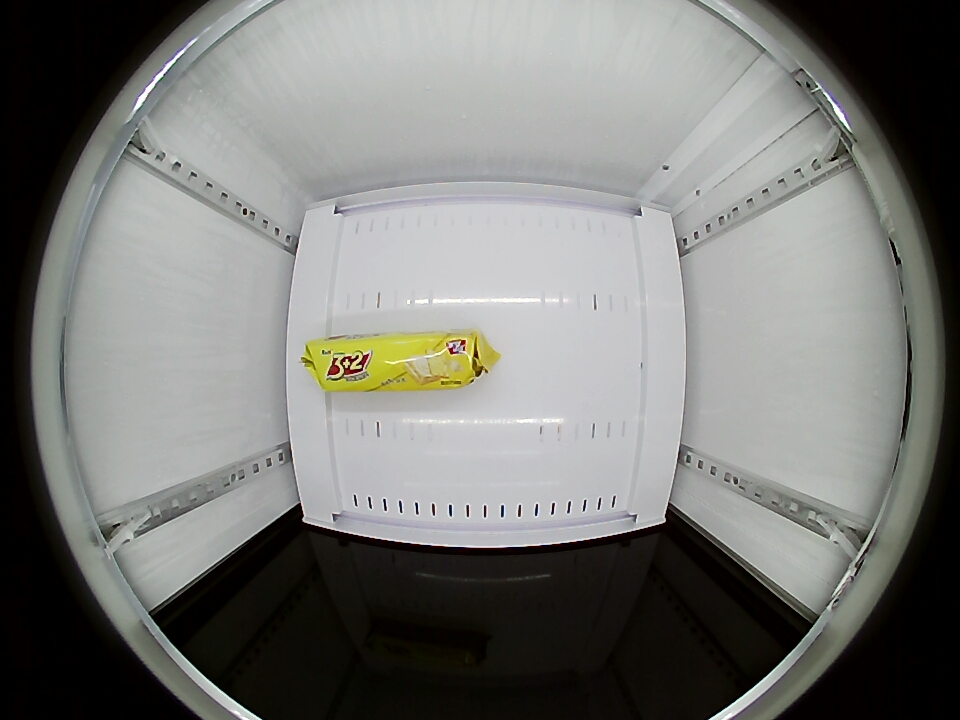3+2-2: (309, 331, 487, 391)
